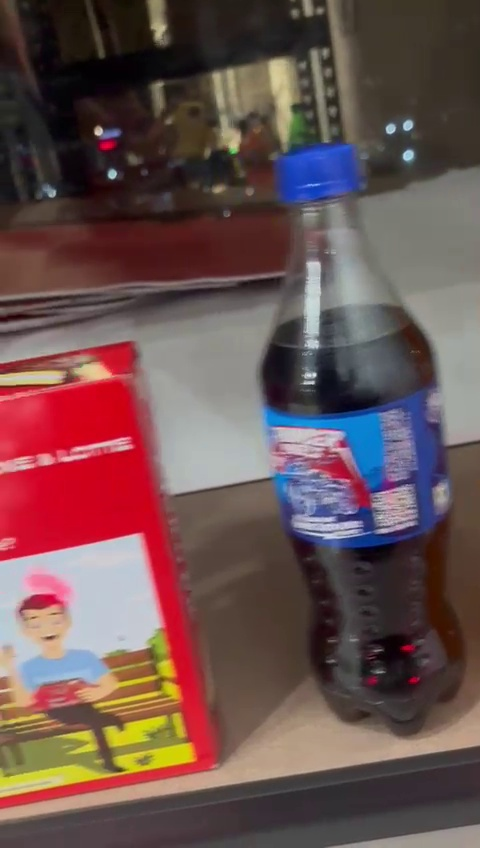Thums-up: (246, 129, 480, 733)
